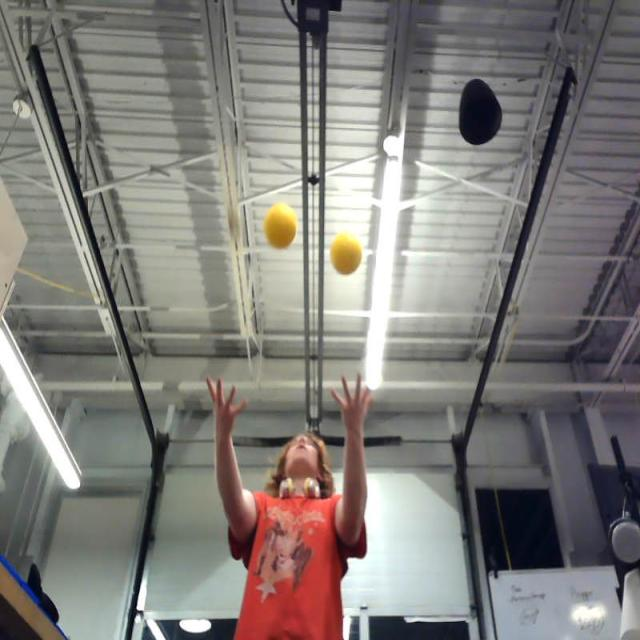Fuel: (265, 202, 297, 250), (330, 234, 362, 276)
